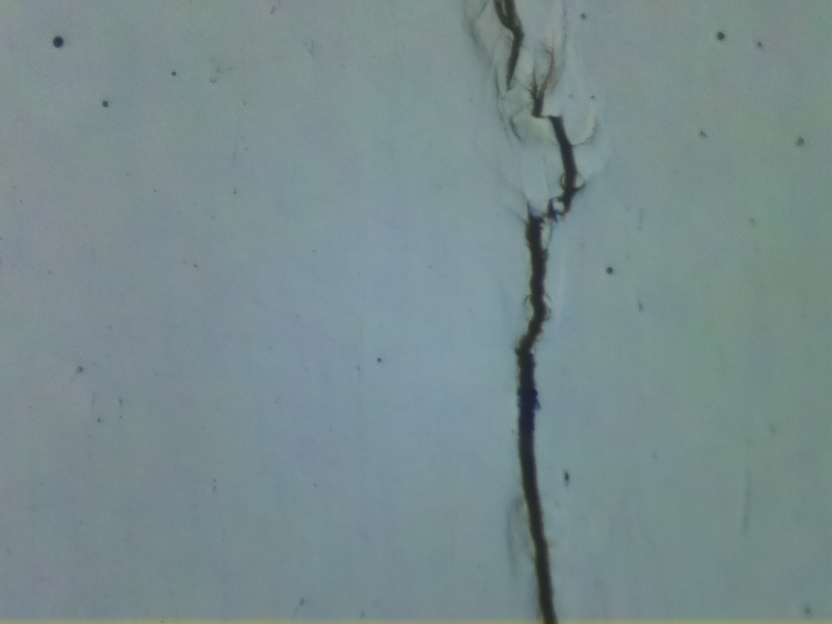crack: (511, 53, 583, 624), (492, 0, 532, 90)
